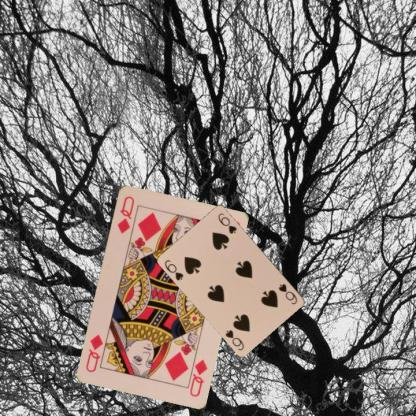6s: (276, 281, 299, 306), (162, 257, 185, 282)
Qd: (184, 352, 209, 398), (114, 193, 136, 235)
